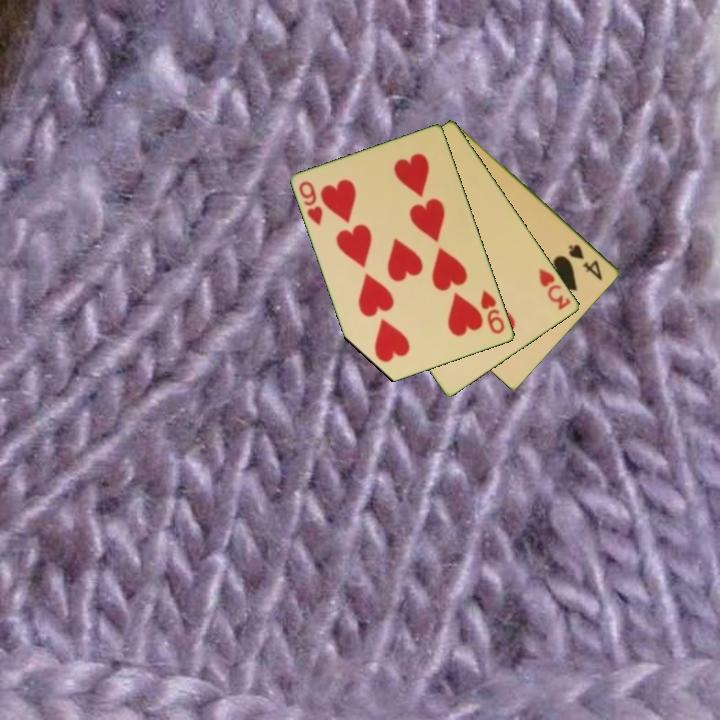3h: (535, 264, 574, 313)
4s: (565, 241, 606, 283)
9h: (477, 286, 508, 337), (296, 178, 326, 229)
